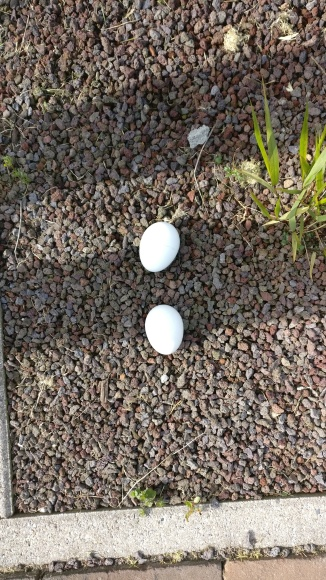egg: (138, 221, 180, 273), (144, 305, 184, 356)
